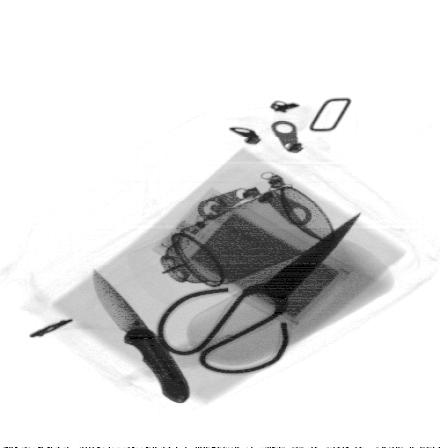Knife: (95, 266, 192, 404)
Powerbank: (152, 186, 362, 331)
Scissors: (155, 208, 365, 375)
Sprayer: (129, 189, 334, 306)
